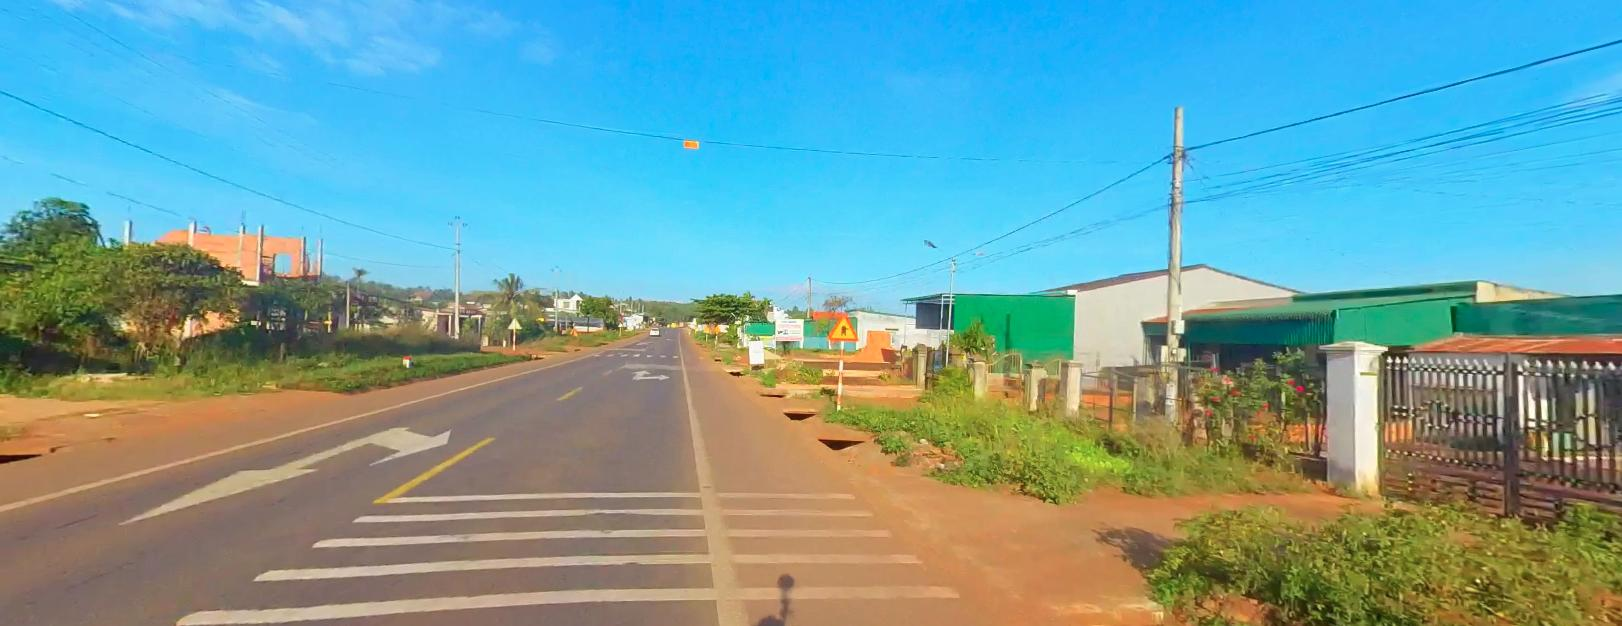Nguy hiem: (827, 310, 860, 340)
